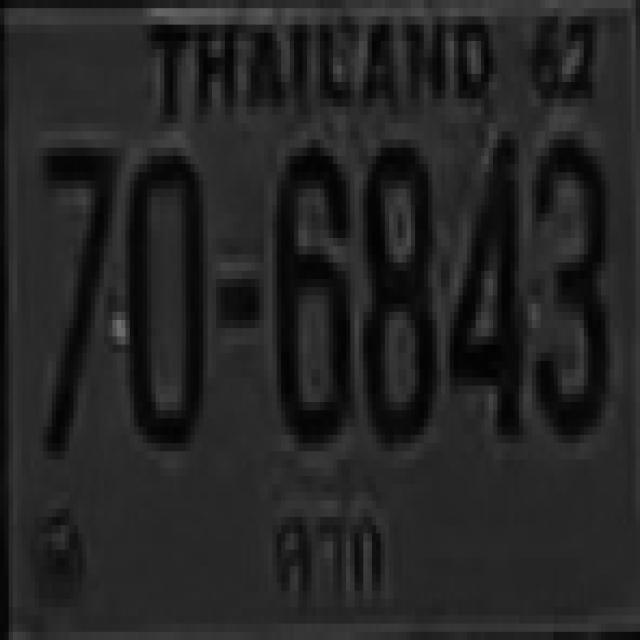0: (123, 148, 201, 443)
3: (532, 135, 605, 431)
4: (445, 127, 519, 431)
6: (275, 139, 348, 435)
7: (39, 140, 112, 452)
8: (359, 135, 432, 439)
Tak: (271, 501, 386, 608)
